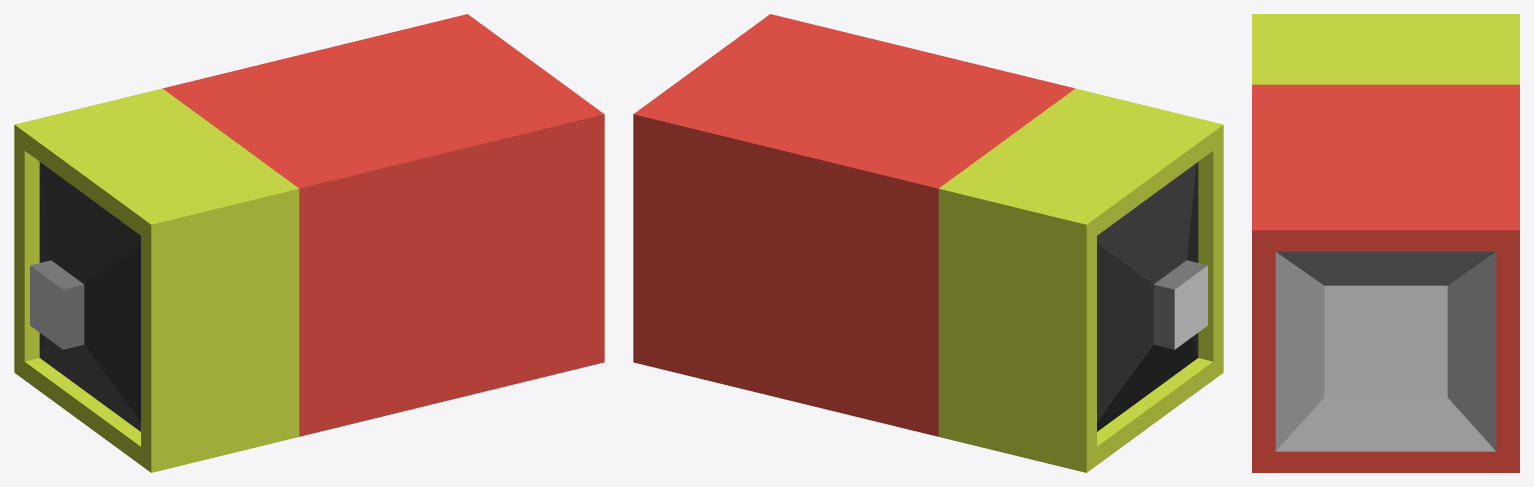
File: Battery_Big.fbx
The picture shows the model from 3 angles, left to right: view 1: azimuth 30°, elevation 25°; view 2: azimuth 150°, elevation 25°; view 3: azimuth 270°, elevation 25°; orthographic projection. The views are drawn at different scales.
Visible parts, largest first — view 1: Battery_Big; view 2: Battery_Big; view 3: Battery_Big.
Boxes of the visible parts, bbox=[...] form: Battery_Big: bbox=[14, 14, 604, 472]; Battery_Big: bbox=[633, 14, 1223, 472]; Battery_Big: bbox=[1252, 14, 1519, 472].
Size of the model in its own units: 32.4 by 15.7 by 15.7.
